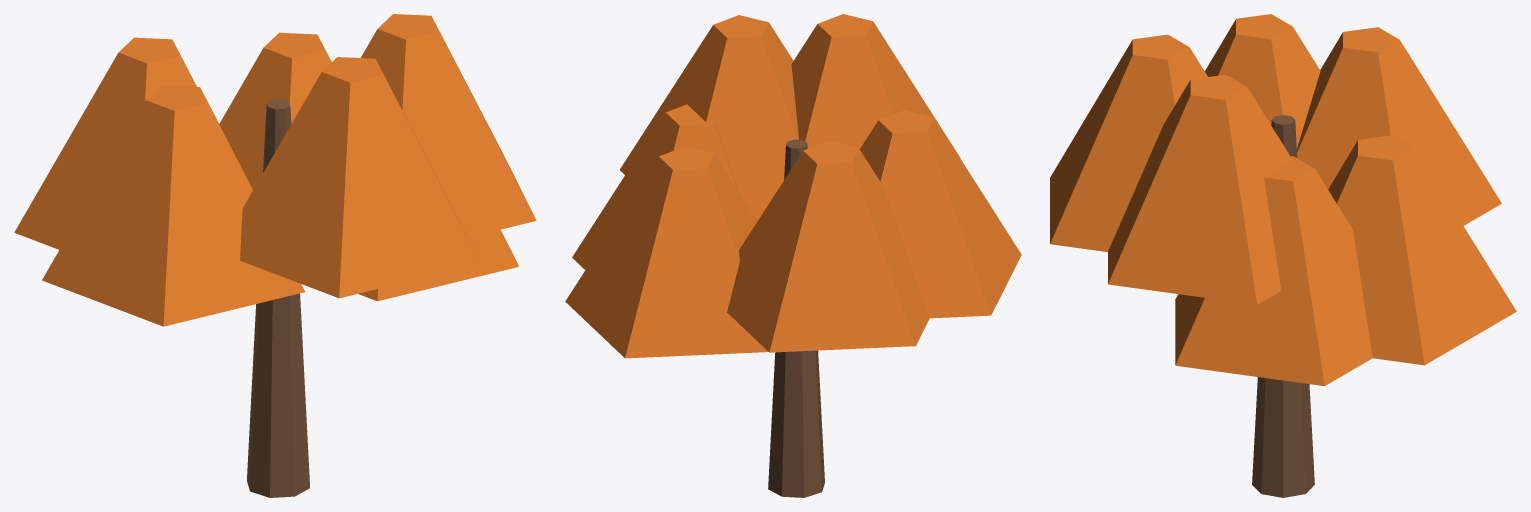
The model's file is nature_maple_autumn.glb.
The picture shows the model from 3 angles, left to right: view 1: azimuth 30°, elevation 25°; view 2: azimuth 150°, elevation 25°; view 3: azimuth 270°, elevation 25°; orthographic projection. The views are drawn at different scales.
Visible parts, largest first — view 1: nature_maple_autumn; view 2: nature_maple_autumn; view 3: nature_maple_autumn.
Part boxes in pixels (x1,y1,x2,y2): nature_maple_autumn: (14, 14, 536, 497); nature_maple_autumn: (565, 14, 1021, 497); nature_maple_autumn: (1050, 14, 1516, 497).
Size of the model in its own units: 3.2 by 3.1 by 2.97.
